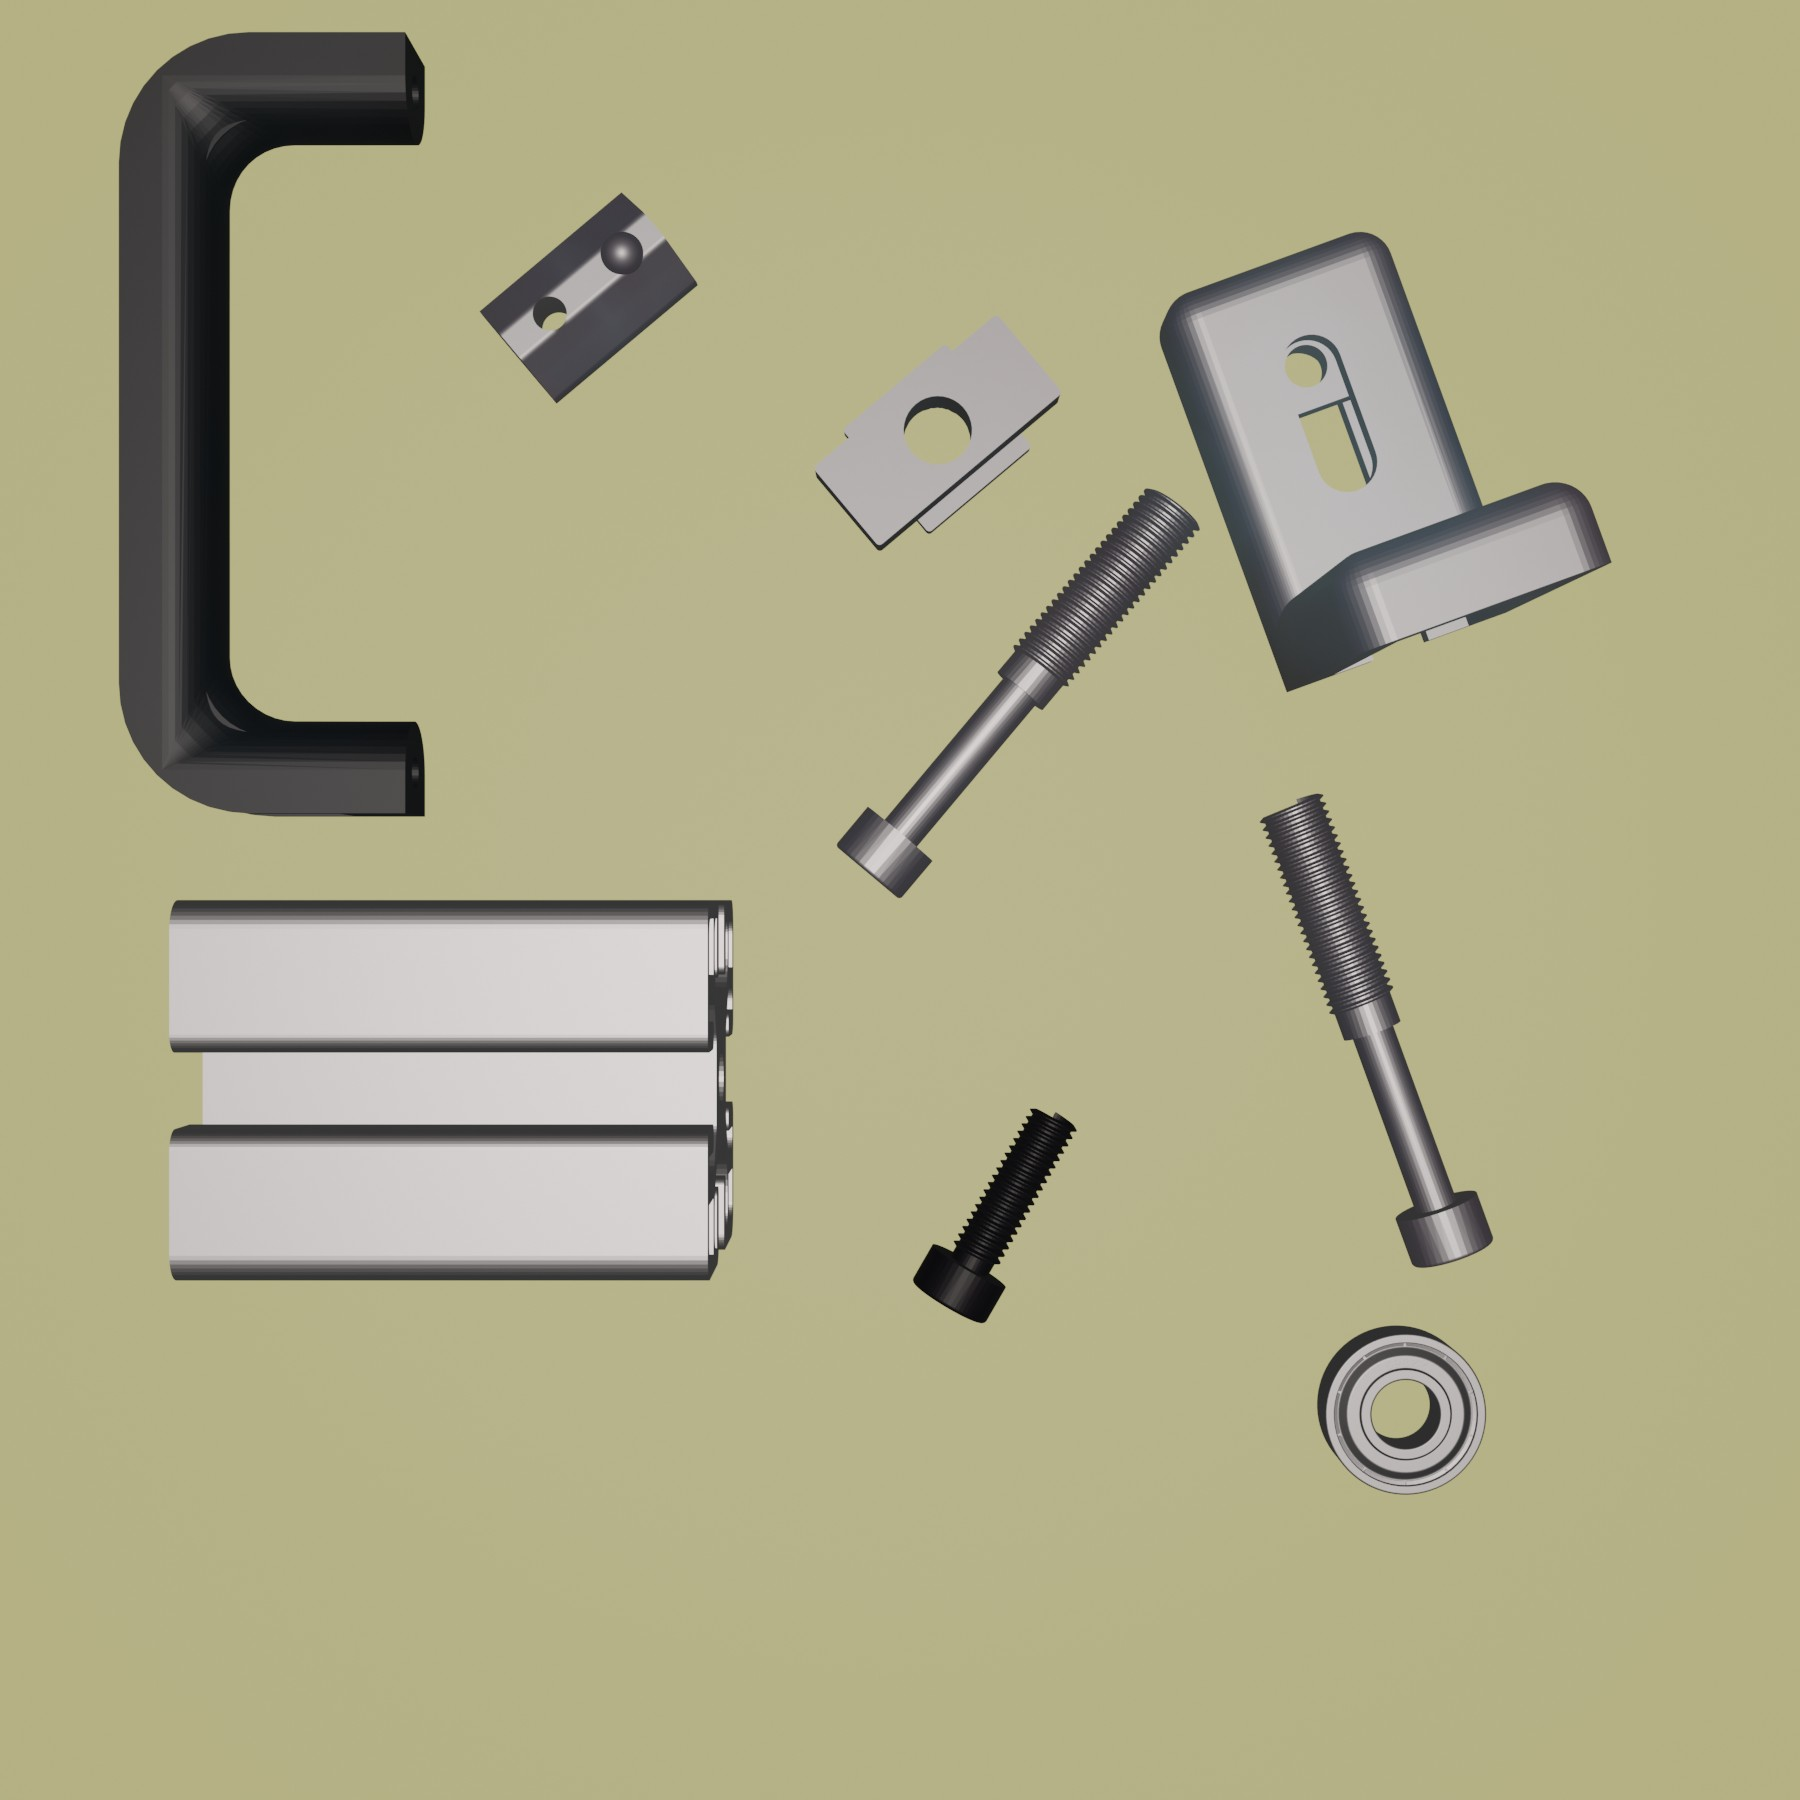Aluminium Extension: (163, 892, 740, 1284)
Ball Bearing: (1314, 1322, 1488, 1498)
Multiwinkel: (1159, 227, 1612, 696)
Pull Handle: (112, 26, 430, 823)
Shoulder Socket Head Cap Screw: (836, 486, 1202, 902), (1259, 791, 1493, 1269)
Socket Head Cap Screw: (912, 1103, 1080, 1325)
T Nut Square: (814, 312, 1065, 554)
T Spring Nut: (478, 191, 697, 405)
